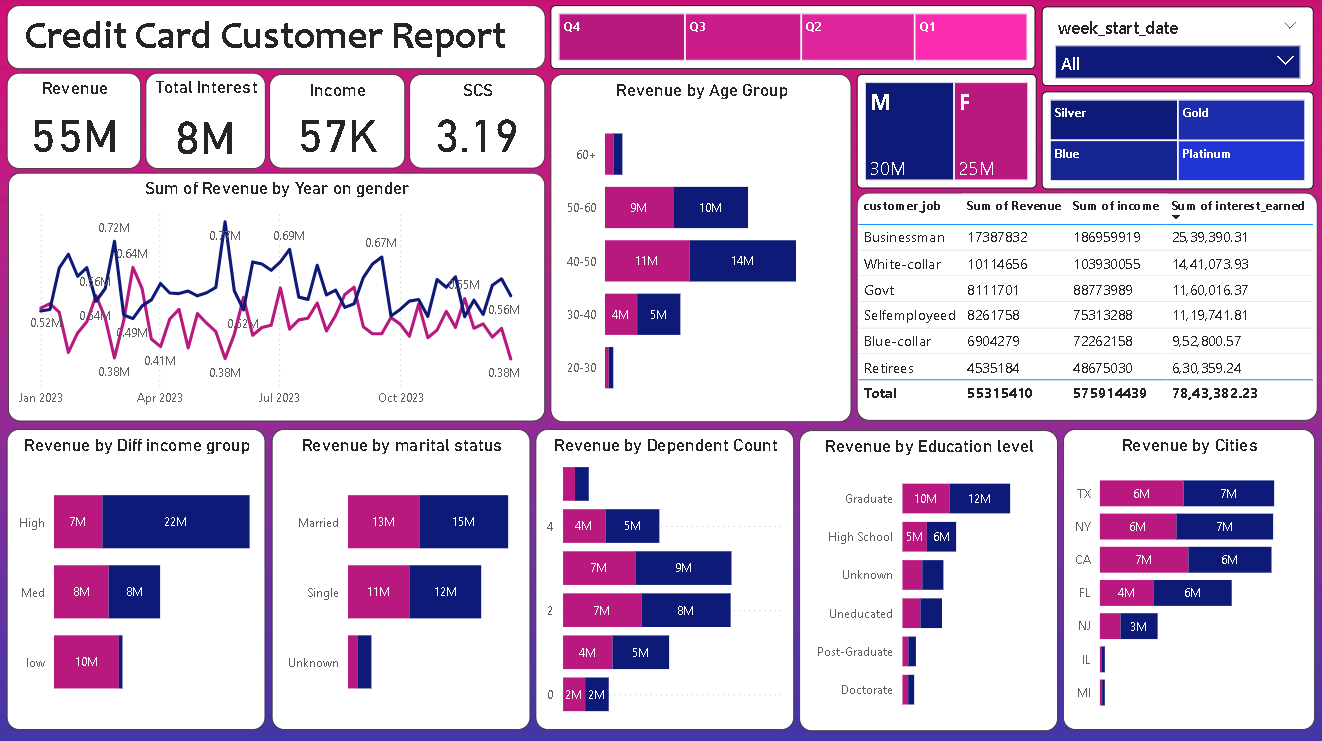

Layout of this report page (visuals, bound fields, positions):
{"tool":"powerbi","page":{"name":"cc customer ","canvas":[1280,720],"ordinal":1},"visuals":[{"type":"textbox","box":[8.2,5.5,520,61.4],"z":0},{"type":"barChart","title":"Revenue by Diff income group","fields":{"Category":["public cust_detail.IncomeGroup"],"Y":["Sum(public cc_detail.Revenue)"],"Series":["public cust_detail.gender"]},"box":[8.2,414.9,249.8,290.7],"z":1000},{"type":"tableEx","fields":{"Values":["public cust_detail.customer_job","Sum(public cc_detail.Revenue)","Sum(public cust_detail.income)","Sum(public cc_detail.interest_earned)"]},"box":[828.5,187,445,219.7],"z":2000},{"type":"card","title":"Revenue","fields":{"Values":["Sum(public cc_detail.Revenue)"]},"box":[8.2,71,129.7,92.8],"z":3000},{"type":"card","title":"Income","fields":{"Values":["Avg(public cust_detail.income)"]},"box":[262.1,72.3,131,91.4],"z":4000},{"type":"card","title":"Total Interest","fields":{"Values":["Sum(public cc_detail.interest_earned)"]},"box":[141.9,71,116,92.8],"z":5000},{"type":"card","title":"SCS","fields":{"Values":["Avg(public cust_detail.cust_satisfaction_score)"]},"box":[397.2,72.3,131,91.4],"z":6000},{"type":"slicer","fields":{"Values":["public cc_detail.week_start_date"]},"box":[1007.3,6.8,262.1,76.4],"z":7000},{"type":"treemap","fields":{"Group":["public cc_detail.qtr"],"Values":["Avg(public cc_detail.client_num)"]},"box":[533.7,5.5,468.2,61.4],"z":8000},{"type":"treemap","fields":{"Group":["public cust_detail.gender"],"Values":["Sum(public cc_detail.Revenue)"]},"box":[828.5,72.3,173.3,110.6],"z":9000},{"type":"treemap","fields":{"Group":["public cc_detail.card_category"],"Values":["Avg(public cc_detail.client_num)"]},"box":[1007.3,88.7,262.1,94.2],"z":10000},{"type":"lineChart","title":"Sum of Revenue by Year on gender","fields":{"Y":["Sum(public cc_detail.Revenue)"],"Series":["public cust_detail.gender"],"Category":["public cc_detail.week_start_date.Variation.Date Hierarchy.Year","public cc_detail.week_start_date.Variation.Date Hierarchy.Month","public cc_detail.week_start_date.Variation.Date Hierarchy.Day"]},"box":[9.6,167.9,518.7,240.2],"z":11000},{"type":"barChart","title":"Revenue by Age Group","fields":{"Category":["public cust_detail.AgeGroup"],"Y":["Sum(public cc_detail.Revenue)"],"Series":["public cust_detail.gender"]},"box":[533.7,72.3,290.7,335.8],"z":12000},{"type":"barChart","title":"Revenue by Dependent Count","fields":{"Y":["Sum(public cc_detail.Revenue)"],"Category":["public cust_detail.dependent_count"],"Series":["public cust_detail.gender"]},"box":[518.7,414.9,249.8,290.7],"z":13000},{"type":"barChart","title":"Revenue by Education level","fields":{"Category":["public cust_detail.education_level"],"Y":["Sum(public cc_detail.Revenue)"],"Series":["public cust_detail.gender"]},"box":[773.9,416.3,249.8,290.7],"z":14000},{"type":"barChart","title":"Revenue by Cities","fields":{"Category":["public cust_detail.state_cd"],"Y":["Sum(public cc_detail.Revenue)"],"Series":["public cust_detail.gender"]},"box":[1027.8,414.9,243,290.7],"z":15000},{"type":"barChart","title":"Revenue by marital status","fields":{"Y":["Sum(public cc_detail.Revenue)"],"Category":["public cust_detail.marital_status"],"Series":["public cust_detail.gender"]},"box":[264.8,414.9,249.8,290.7],"z":16000}]}

Visuals, with their boxes in screenshot pixels (x1, y1, x2, y2), scaled from the page's 1280x720 canvas onto the 1322x741 screenshot:
textbox: x1=8 y1=6 x2=546 y2=69
"Revenue by Diff income group" barChart: x1=8 y1=427 x2=266 y2=726
tableEx - public cust_detail.customer_job x Sum(public cc_detail.Revenue): x1=856 y1=192 x2=1315 y2=419
"Revenue" card: x1=8 y1=73 x2=142 y2=169
"Income" card: x1=271 y1=74 x2=406 y2=168
"Total Interest" card: x1=147 y1=73 x2=266 y2=169
"SCS" card: x1=410 y1=74 x2=546 y2=168
slicer - public cc_detail.week_start_date: x1=1040 y1=7 x2=1311 y2=86
treemap - public cc_detail.qtr x Avg(public cc_detail.client_num): x1=551 y1=6 x2=1035 y2=69
treemap - public cust_detail.gender x Sum(public cc_detail.Revenue): x1=856 y1=74 x2=1035 y2=188
treemap - public cc_detail.card_category x Avg(public cc_detail.client_num): x1=1040 y1=91 x2=1311 y2=188
"Sum of Revenue by Year on gender" lineChart: x1=10 y1=173 x2=546 y2=420
"Revenue by Age Group" barChart: x1=551 y1=74 x2=851 y2=420
"Revenue by Dependent Count" barChart: x1=536 y1=427 x2=794 y2=726
"Revenue by Education level" barChart: x1=799 y1=428 x2=1057 y2=728
"Revenue by Cities" barChart: x1=1062 y1=427 x2=1312 y2=726
"Revenue by marital status" barChart: x1=273 y1=427 x2=531 y2=726
